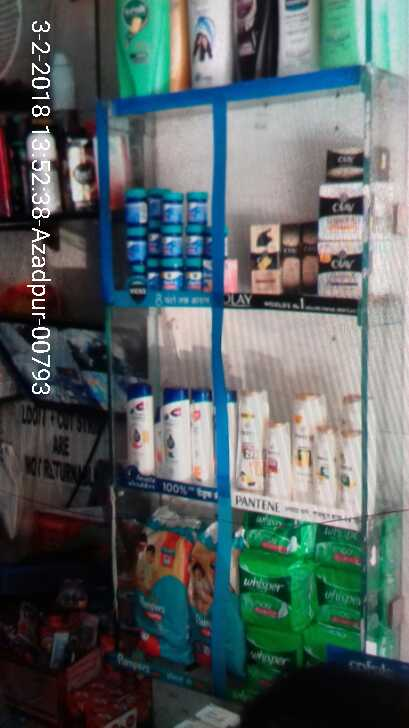vicks: (127, 185, 215, 289)
